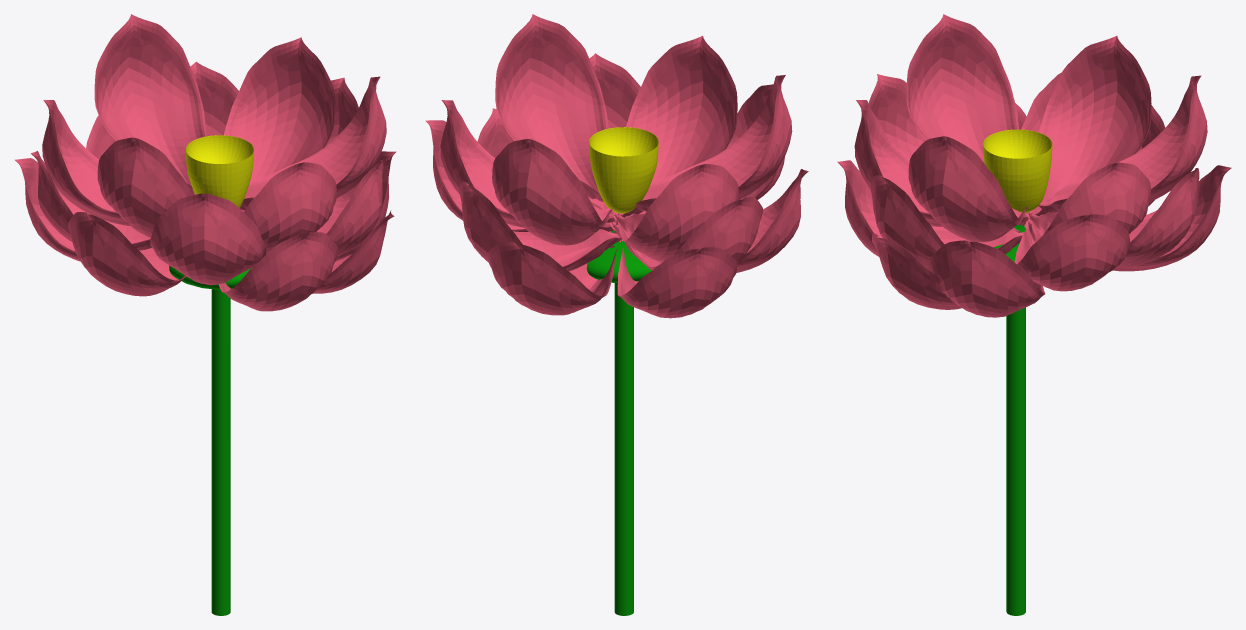
The model's file is Lotus.fbx.
3 renders of one model, left to right at view 1: azimuth 30°, elevation 25°; view 2: azimuth 150°, elevation 25°; view 3: azimuth 270°, elevation 25°, orthographic.
Parts seen in each view (by area): view 1: nurbsToPoly27, polySurface9, polySurface7; view 2: nurbsToPoly27, polySurface9, polySurface7, polySurface8; view 3: nurbsToPoly27, polySurface9, polySurface7.
Boxes of the visible parts, x1=… form: nurbsToPoly27: x1=15, y1=14, x2=396, y2=311; polySurface9: x1=211, y1=289, x2=230, y2=615; polySurface7: x1=186, y1=135, x2=253, y2=207; nurbsToPoly27: x1=425, y1=14, x2=808, y2=318; polySurface9: x1=614, y1=283, x2=633, y2=615; polySurface7: x1=589, y1=127, x2=658, y2=213; polySurface8: x1=586, y1=224, x2=651, y2=282; nurbsToPoly27: x1=837, y1=14, x2=1231, y2=317; polySurface9: x1=1006, y1=307, x2=1025, y2=615; polySurface7: x1=983, y1=129, x2=1052, y2=213.
Bounding box in the file's own units: 19 × 30.39 × 20.25.
